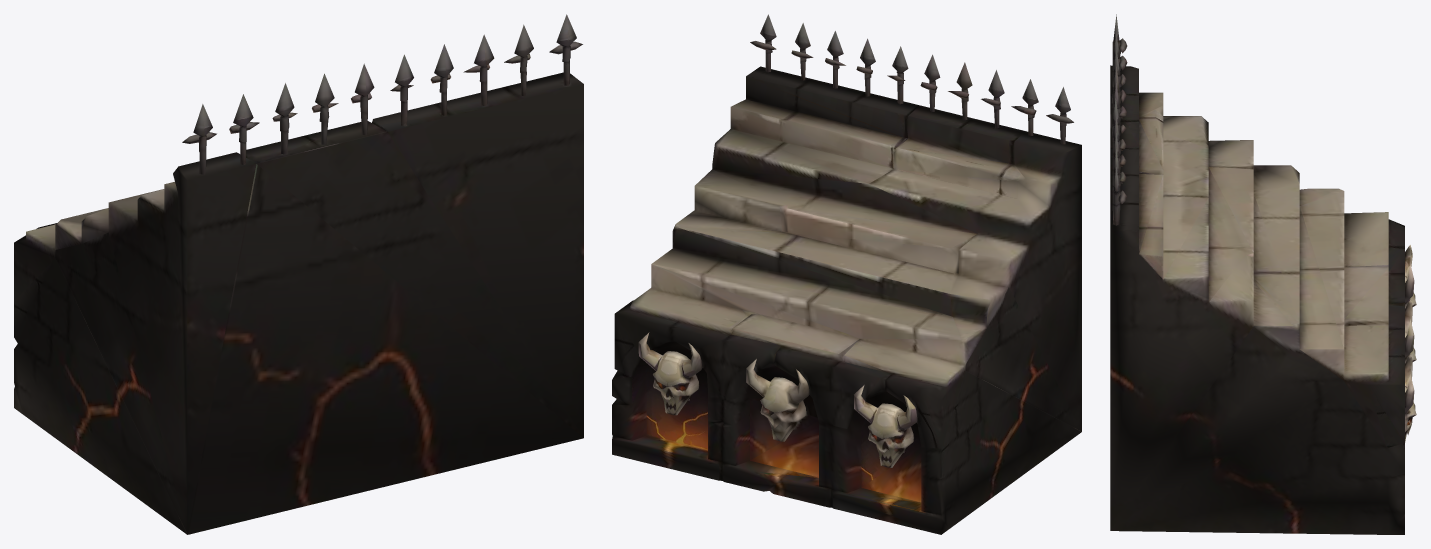
File: abyss_gladiator_spectator_stand.glb
3 renders of one model, left to right at view 1: azimuth 30°, elevation 25°; view 2: azimuth 150°, elevation 25°; view 3: azimuth 270°, elevation 25°, orthographic. The views are drawn at different scales.
Visible parts, largest first — view 1: tripo_node_9ea6c899-3a95-4d4d-b68f-502c6f0a4ee5; view 2: tripo_node_9ea6c899-3a95-4d4d-b68f-502c6f0a4ee5; view 3: tripo_node_9ea6c899-3a95-4d4d-b68f-502c6f0a4ee5.
Part boxes in pixels (<box>): tripo_node_9ea6c899-3a95-4d4d-b68f-502c6f0a4ee5: <box>14,14,583,534</box>; tripo_node_9ea6c899-3a95-4d4d-b68f-502c6f0a4ee5: <box>612,14,1081,534</box>; tripo_node_9ea6c899-3a95-4d4d-b68f-502c6f0a4ee5: <box>1110,14,1416,534</box>.
Bounding box in the file's own units: 5 × 5 × 3.85.
1 material, 1 textured.
